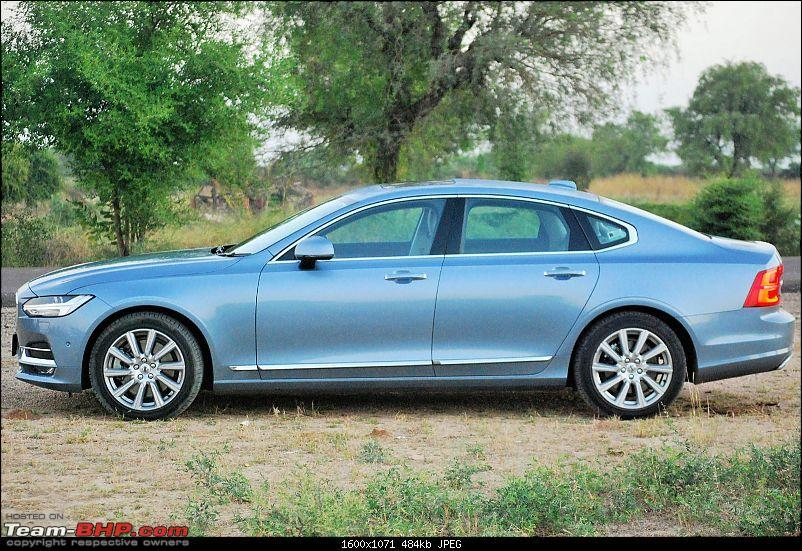car: (2, 112, 802, 454)
